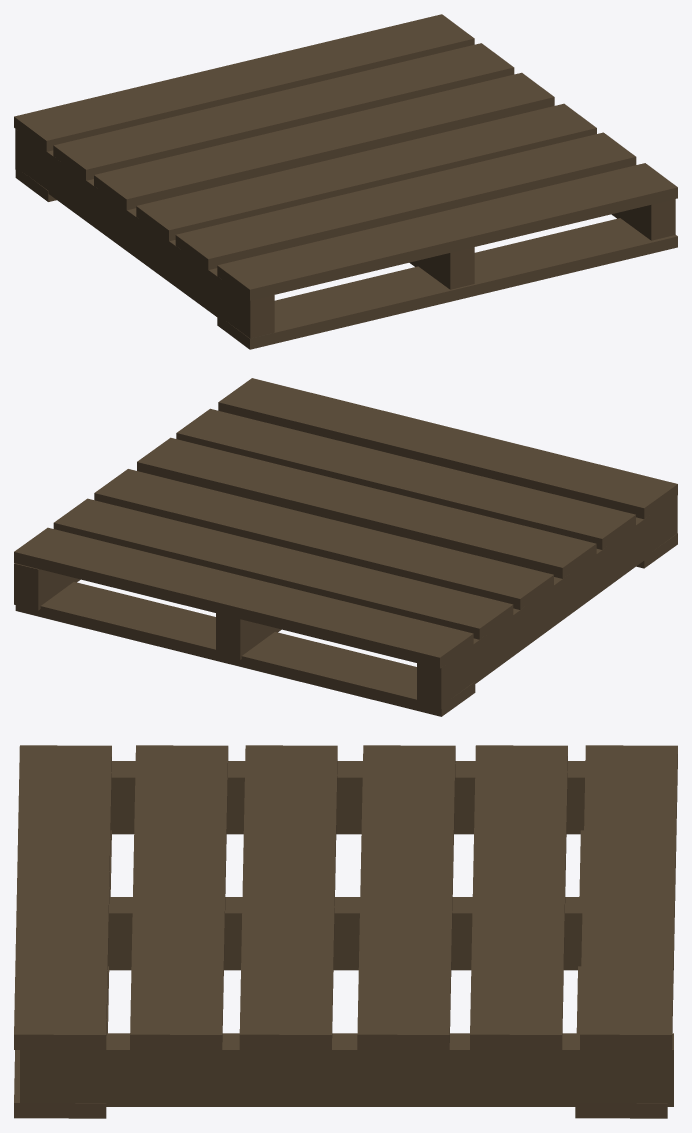
Rendered from woodenPalletDark.fbx.
3 renders of one model, top to bottom at view 1: azimuth 30°, elevation 25°; view 2: azimuth 150°, elevation 25°; view 3: azimuth 270°, elevation 25°, orthographic. The views are drawn at different scales.
Visible parts, largest first — view 1: pCube27; view 2: pCube27; view 3: pCube27.
Boxes of the visible parts, x1,y1,x2,y2 form: pCube27: (14, 14, 677, 349); pCube27: (14, 378, 677, 716); pCube27: (14, 745, 677, 1118).
Bounding box in the file's own units: 3.59 × 0.4832 × 3.48.
